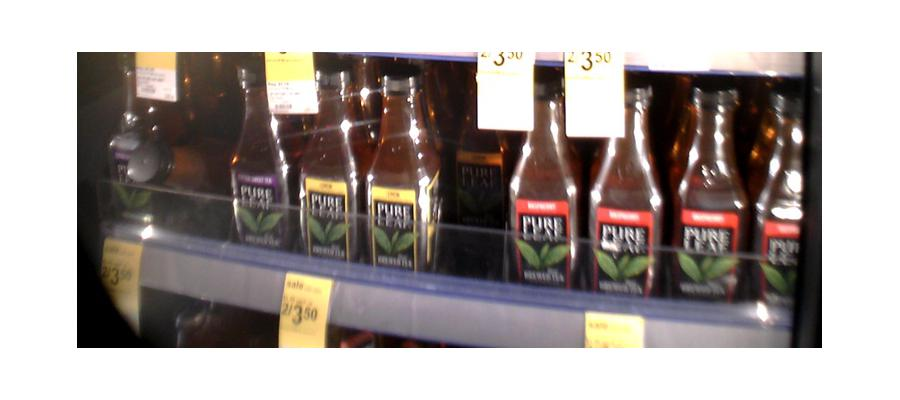bottle: (591, 92, 668, 308), (674, 86, 747, 308), (363, 65, 434, 275), (511, 85, 581, 293), (294, 65, 365, 264), (226, 70, 293, 252), (756, 84, 803, 327)
